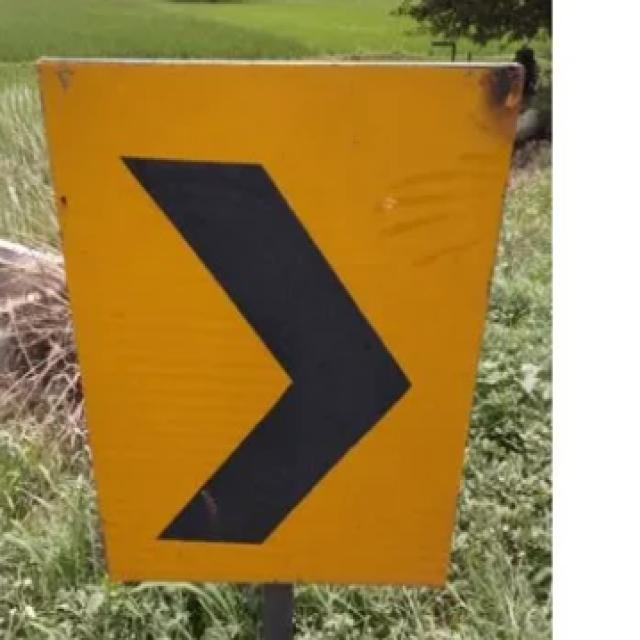DIRECTION: (34, 48, 471, 595)
